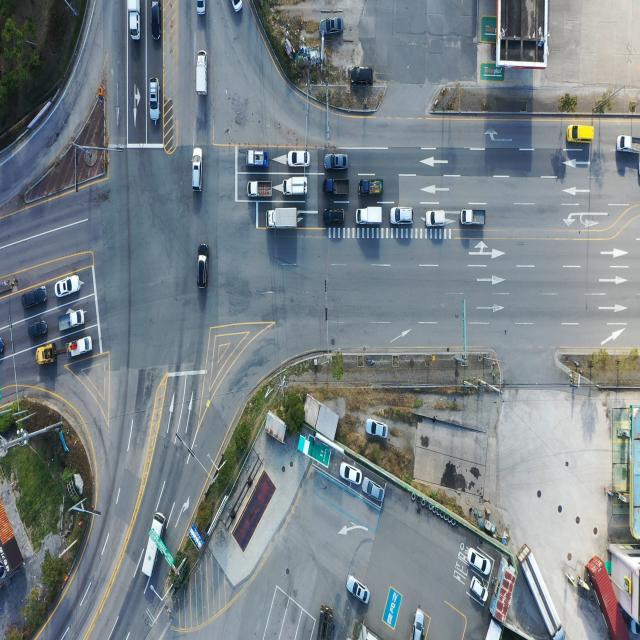car: (347, 576, 370, 606), (56, 275, 82, 298), (364, 480, 386, 504), (22, 287, 47, 308), (467, 551, 488, 576), (199, 243, 210, 289), (319, 18, 344, 38), (471, 578, 490, 604), (193, 146, 204, 190), (350, 66, 374, 86), (568, 126, 594, 144), (341, 463, 362, 485), (364, 418, 386, 439), (148, 81, 159, 122), (150, 0, 161, 41), (390, 207, 413, 226), (412, 610, 426, 640), (324, 155, 348, 172), (287, 150, 309, 168), (326, 209, 348, 227), (28, 320, 48, 338), (426, 210, 445, 227)
medium_truck: (519, 544, 565, 637), (266, 208, 299, 230), (318, 605, 336, 640)
small_bus: (141, 512, 167, 581)
small_truck: (58, 310, 85, 332), (356, 206, 384, 226), (129, 0, 143, 40), (67, 337, 92, 359), (250, 182, 276, 202), (198, 52, 209, 98), (322, 178, 350, 196), (282, 176, 307, 196), (461, 208, 487, 227), (360, 178, 384, 196), (616, 132, 640, 150), (248, 149, 270, 168)
